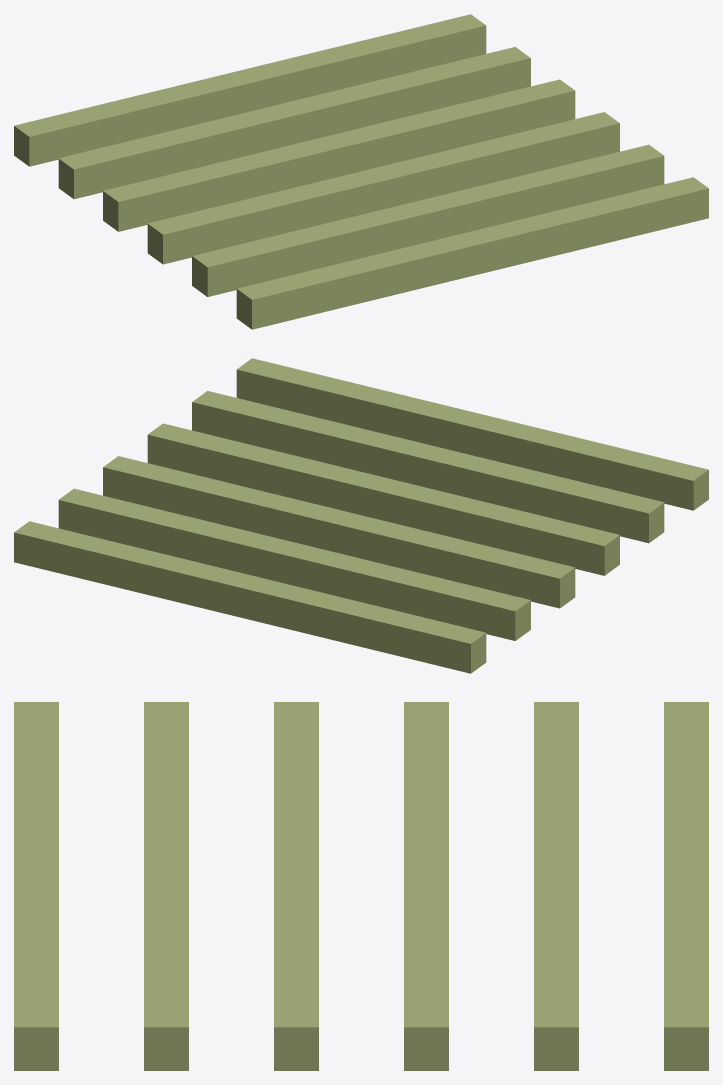
The picture shows the model from 3 angles, top to bottom: view 1: azimuth 30°, elevation 25°; view 2: azimuth 150°, elevation 25°; view 3: azimuth 270°, elevation 25°; orthographic projection. The views are drawn at different scales.
Bounding box in the file's own units: 7.7 × 0.48 × 6.95.
